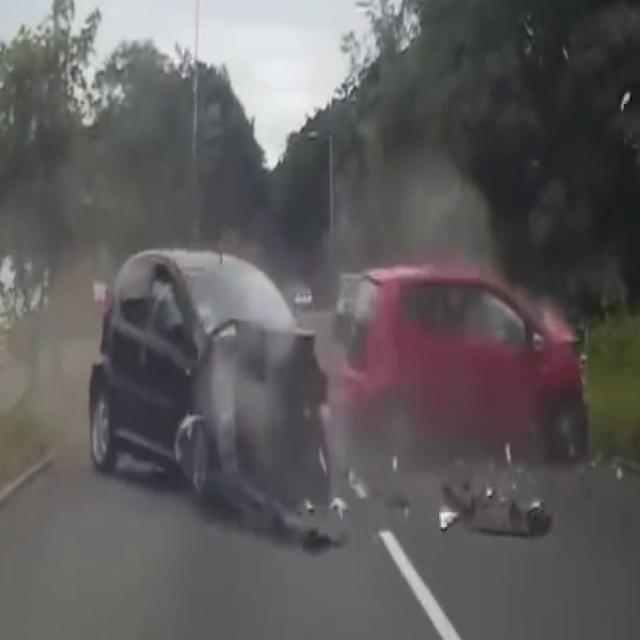accident: (97, 194, 598, 516), (101, 242, 332, 523), (344, 258, 596, 482)
